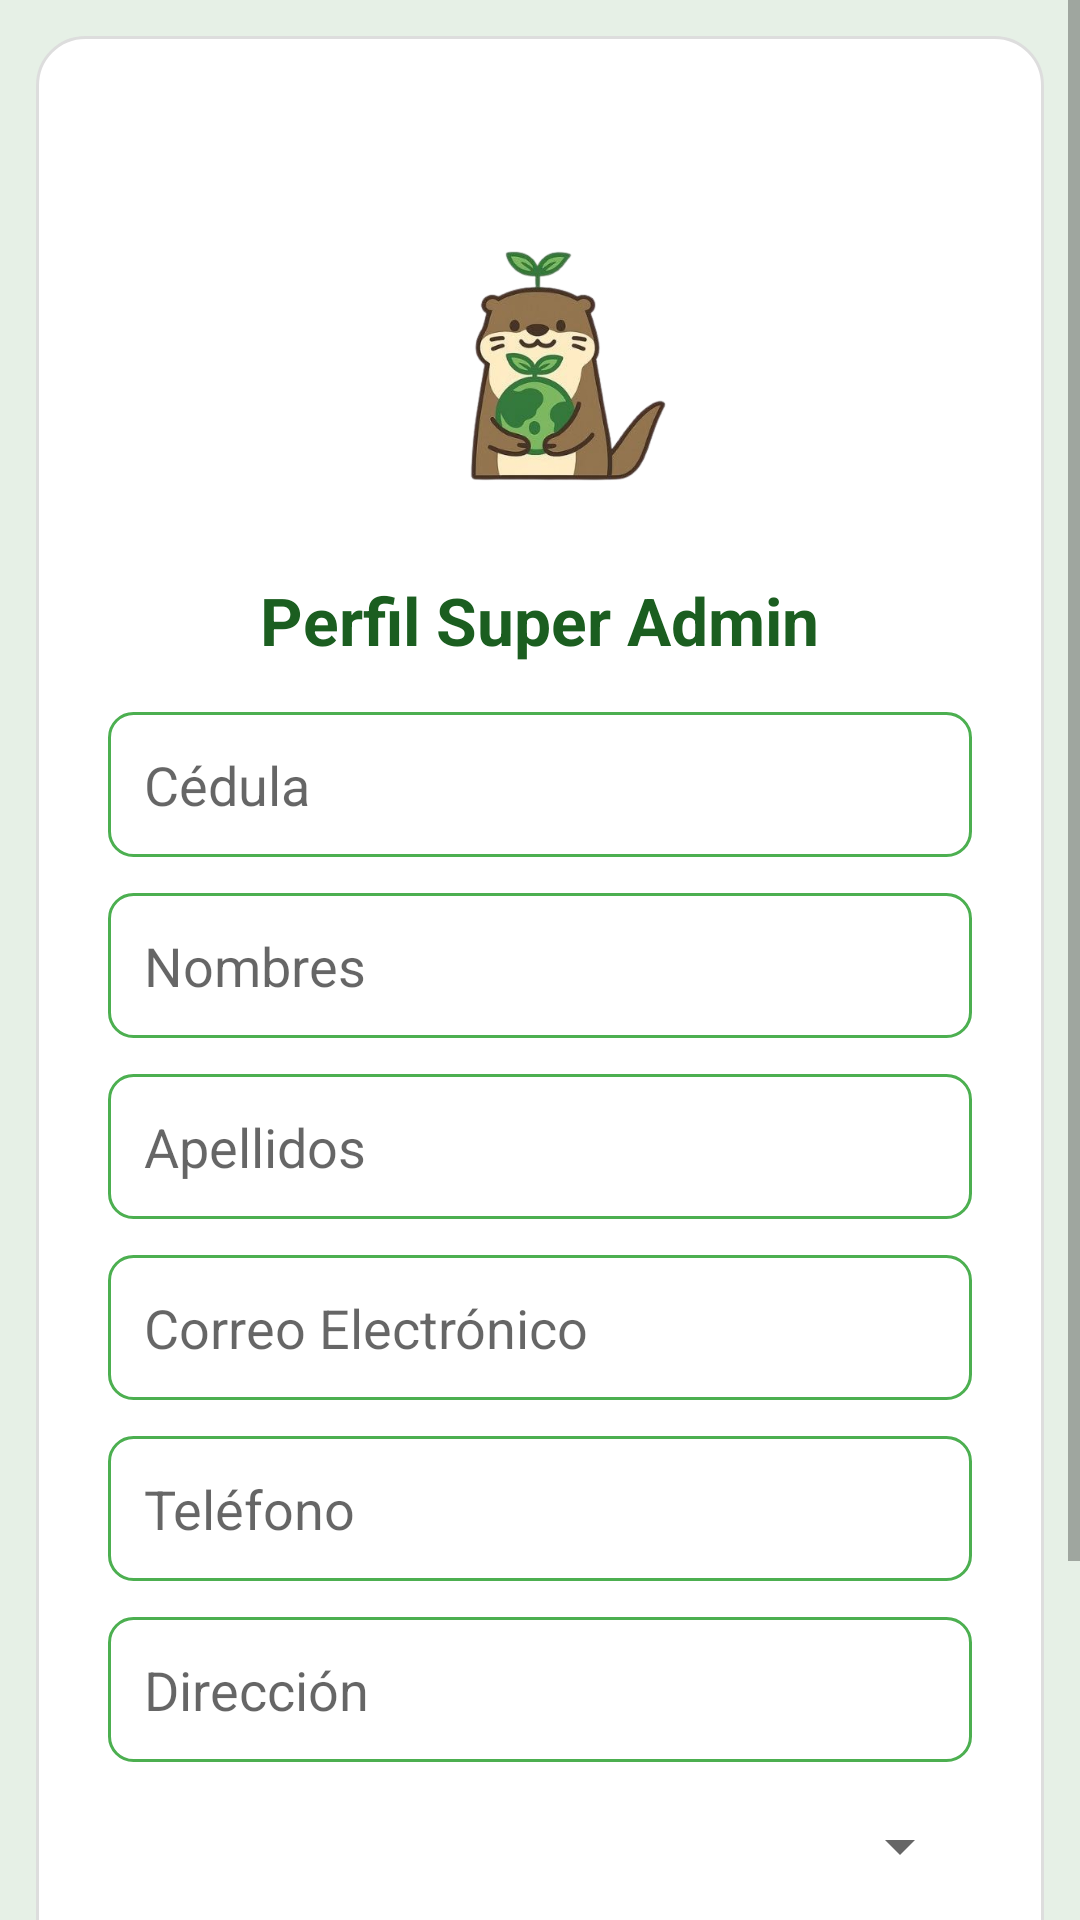

Where icons sit on this 1080 × 1920 app screen, as (x1, y1, x2, y2):
Foto de Perfil: (471, 251, 666, 480)
